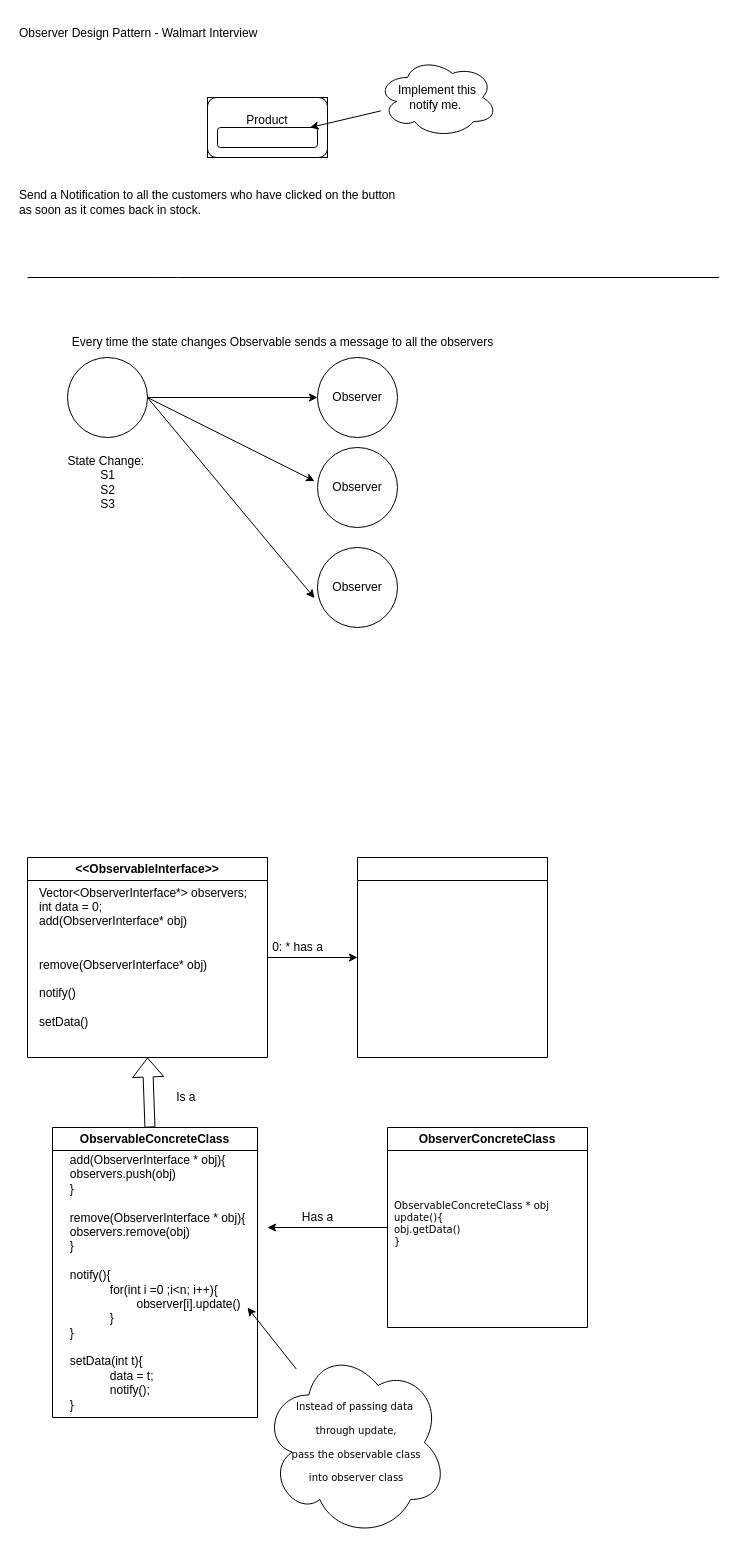
This 738x1555 diagram has some shape labels left out. Each missing label, with the centre of its shape:
"<<ObserverInterface>>" belongs at point (452, 957).
"Notify Me" belongs at point (267, 137).
"Observable" belongs at point (107, 397).
